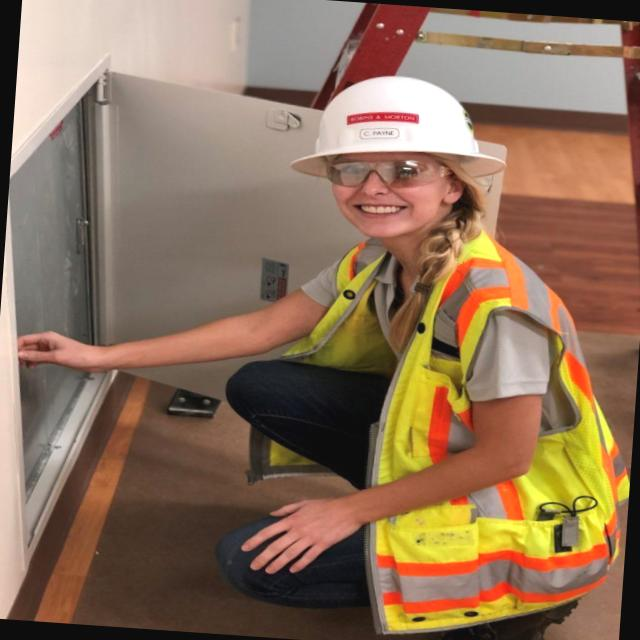helmet: (272, 70, 532, 200)
vest: (260, 212, 631, 640)
